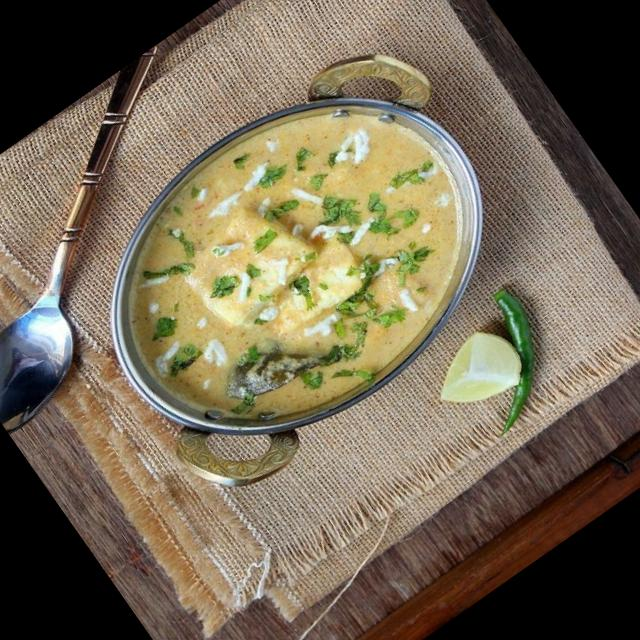ShahiPaneer: (72, 48, 524, 479)
